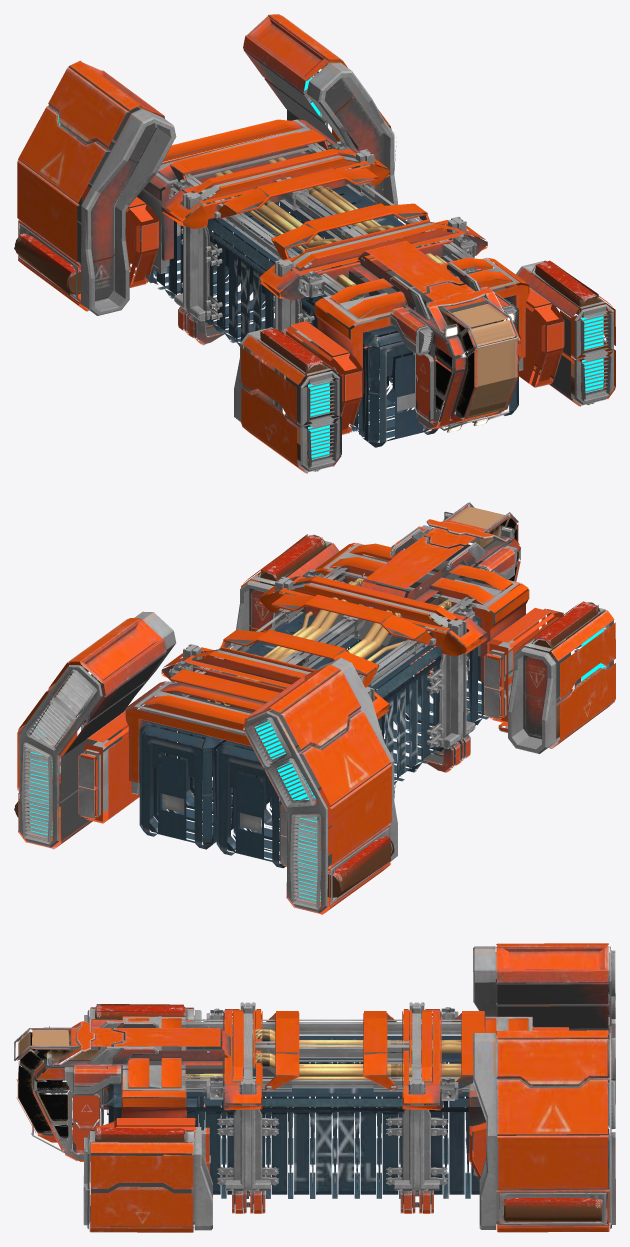
3 views of the same model, one above another, from view 1: azimuth 30°, elevation 25°; view 2: azimuth 150°, elevation 25°; view 3: azimuth 270°, elevation 25° (orthographic). The views are drawn at different scales.
Parts seen in each view (by area): view 1: Object_2, Object_25, Object_14, Object_26, Object_11, Object_10, Object_24, Object_23, Object_17, Object_15, Object_7, Object_13 (+4 smaller); view 2: Object_25, Object_11, Object_2, Object_14, Object_10, Object_26, Object_24, Object_23, Object_6, Object_15, Object_12, Object_3 (+4 smaller); view 3: Object_25, Object_2, Object_12, Object_14, Object_10, Object_11, Object_23, Object_6, Object_26, Object_17, Object_15, Object_7 (+5 smaller).
Part boxes in pixels (bbox=[...]): Object_2: bbox=[137, 119, 529, 396]; Object_25: bbox=[17, 14, 391, 311]; Object_14: bbox=[15, 192, 615, 473]; Object_26: bbox=[19, 59, 397, 315]; Object_11: bbox=[148, 185, 518, 447]; Object_10: bbox=[140, 129, 477, 373]; Object_24: bbox=[82, 124, 564, 434]; Object_23: bbox=[331, 240, 520, 429]; Object_17: bbox=[416, 303, 516, 420]; Object_15: bbox=[14, 233, 615, 473]; Object_7: bbox=[174, 150, 374, 345]; Object_13: bbox=[390, 286, 518, 432]; Object_25: bbox=[17, 618, 391, 914]; Object_11: bbox=[139, 557, 516, 868]; Object_2: bbox=[125, 543, 529, 794]; Object_14: bbox=[14, 535, 615, 897]; Object_10: bbox=[137, 569, 477, 788]; Object_26: bbox=[19, 611, 397, 912]; Object_24: bbox=[78, 566, 563, 866]; Object_23: bbox=[330, 505, 520, 659]; Object_6: bbox=[183, 576, 475, 793]; Object_15: bbox=[241, 534, 609, 897]; Object_12: bbox=[139, 623, 435, 863]; Object_3: bbox=[207, 578, 456, 705]; Object_25: bbox=[495, 943, 615, 1232]; Object_2: bbox=[121, 1008, 533, 1175]; Object_12: bbox=[114, 1096, 479, 1198]; Object_14: bbox=[83, 1004, 602, 1231]; Object_10: bbox=[203, 1007, 485, 1176]; Object_11: bbox=[107, 1035, 479, 1198]; Object_23: bbox=[16, 1028, 275, 1161]; Object_6: bbox=[217, 1002, 447, 1213]; Object_26: bbox=[473, 946, 615, 1231]; Object_17: bbox=[17, 1030, 103, 1152]; Object_15: bbox=[83, 1009, 193, 1232]; Object_7: bbox=[217, 1003, 447, 1213].
Size of the model in its own units: 38.92 by 23.16 by 67.12.
Materials: 15 (11 with a texture image).
